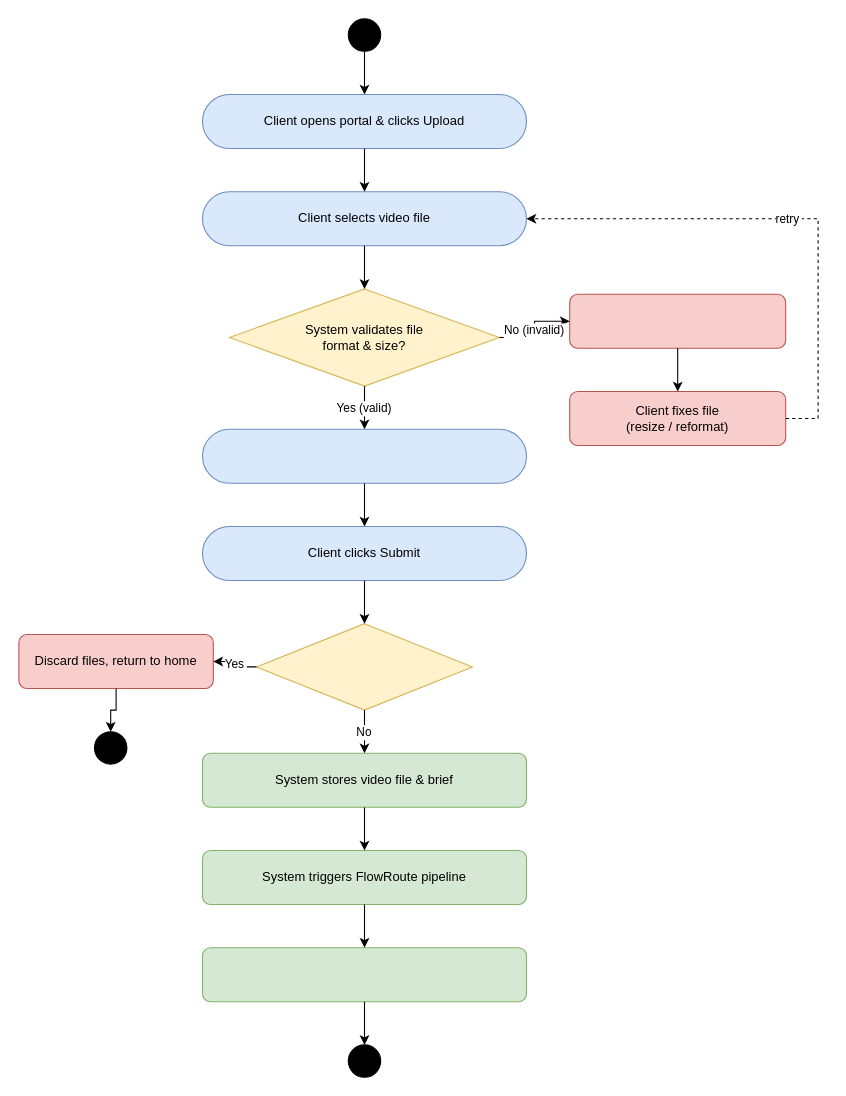
Image size: 846x1096. Some labels were removed from this diagram. Here are the shapes that lost their labels. From the top down, the centre of each, then its label:
At point 677,320: "System shows error message".
At point 363,455: "Client attaches brief document".
At point 364,666: "Cancelled?".
At point 363,974: "System shows confirmation to client".
